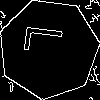L: (23, 24, 73, 57)
